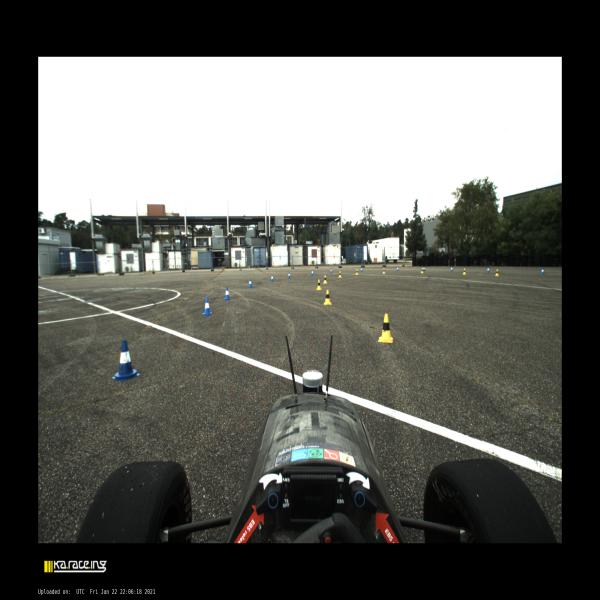blue_cone: (112, 340, 140, 382), (202, 298, 213, 316), (223, 287, 231, 300), (248, 278, 253, 288), (540, 267, 545, 275), (270, 274, 274, 282), (311, 270, 314, 276), (487, 267, 490, 273), (360, 267, 363, 272), (288, 272, 290, 278), (396, 266, 398, 272), (423, 266, 425, 272), (450, 266, 452, 272), (330, 268, 332, 273)
yellow_cone: (378, 313, 393, 343), (324, 290, 332, 305), (316, 280, 322, 290), (323, 275, 327, 284), (338, 271, 342, 278), (495, 269, 499, 276), (463, 268, 466, 274), (356, 269, 358, 275), (383, 268, 385, 274), (421, 268, 423, 273)
